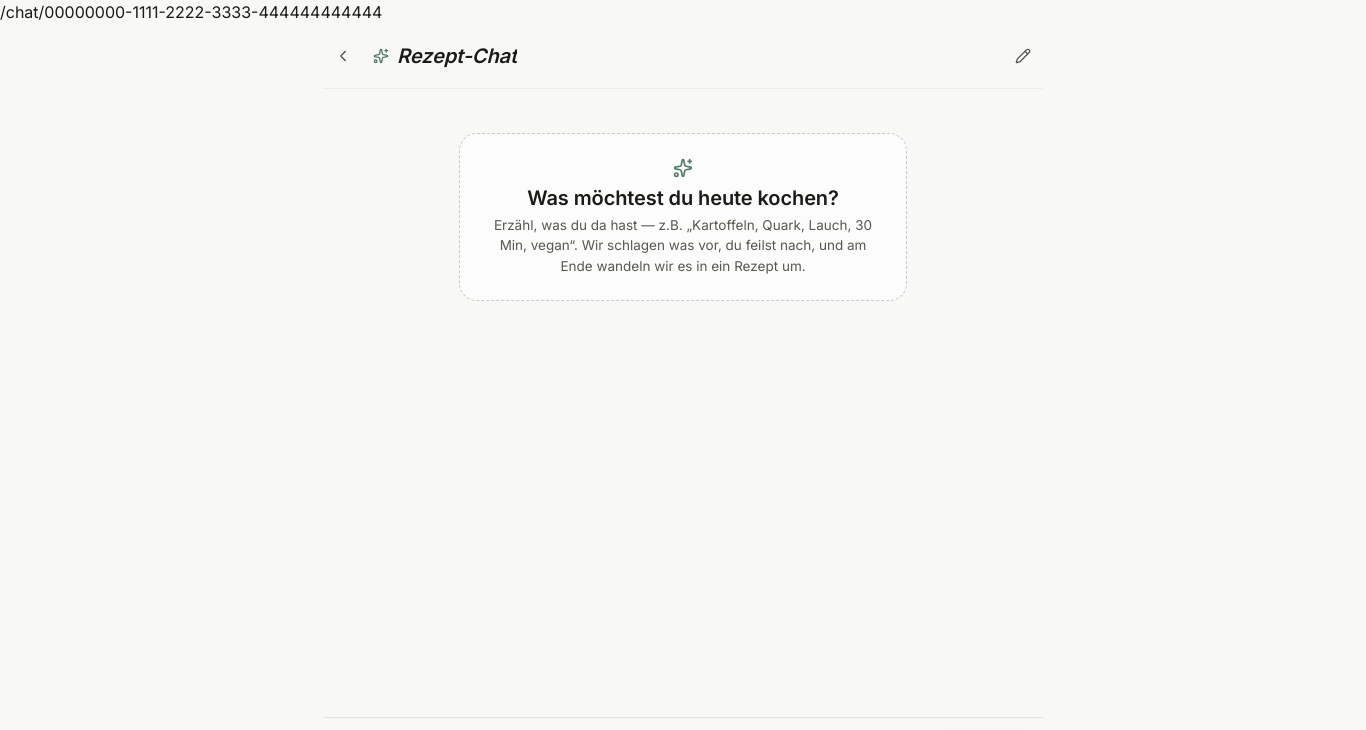
Test case: <ChatPage /> — rename top-bar affordance › REL-3d: renders the localised errors:invalid_title copy when the PATCH 400s
Click the button named "Unterhaltung umbenennen".
click(1023, 56)  # box [1003,36,1043,76]
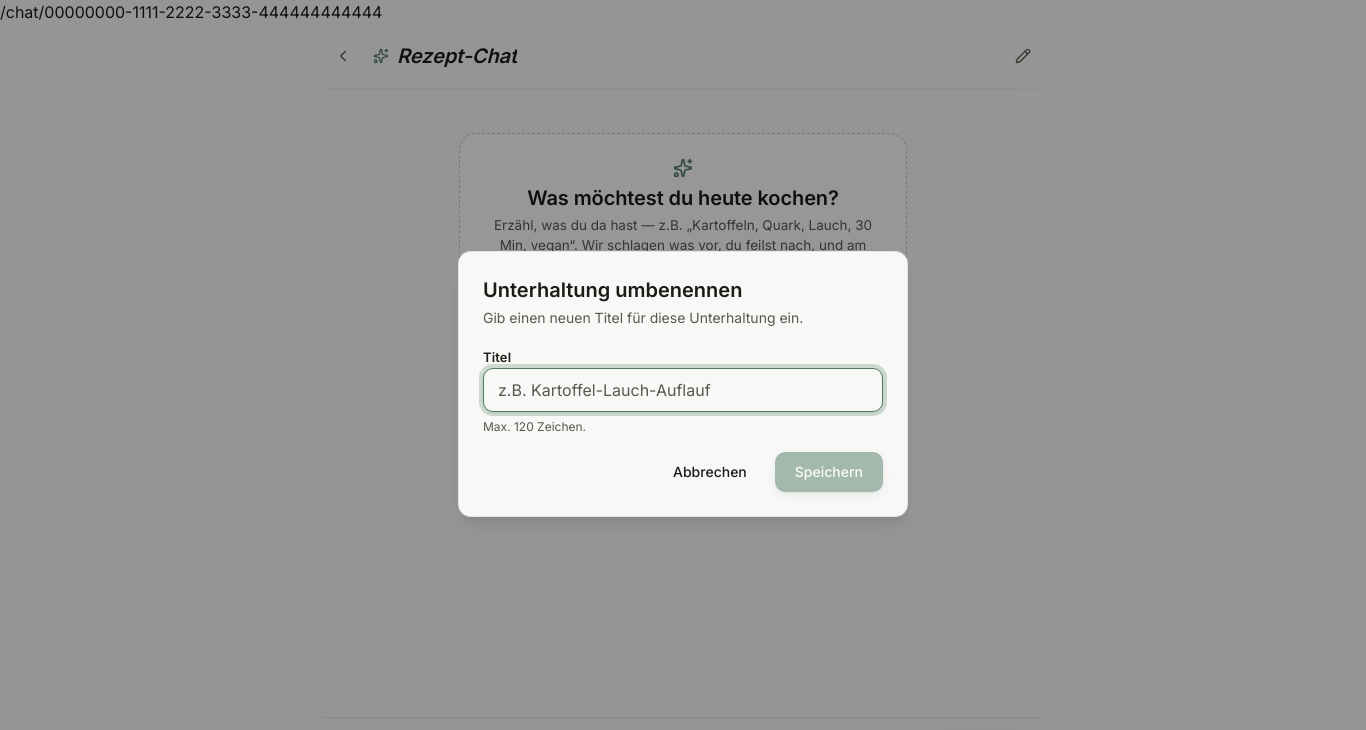
Type "Ein viel zu langer Titel" into the field labelled "Titel".
click(683, 390); type("Ein viel zu langer Titel")  # box [483,368,883,412]
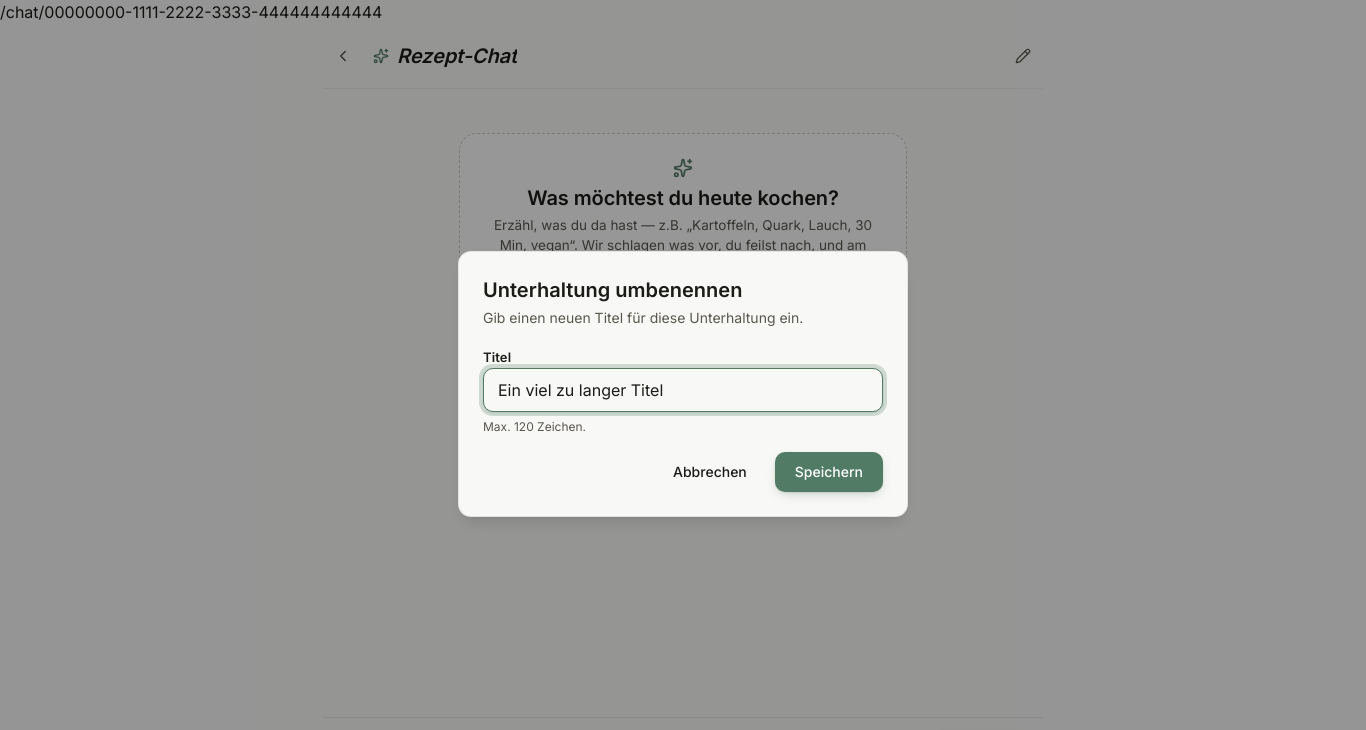
Click the button "Speichern".
click(829, 472)  # box [775,452,883,492]
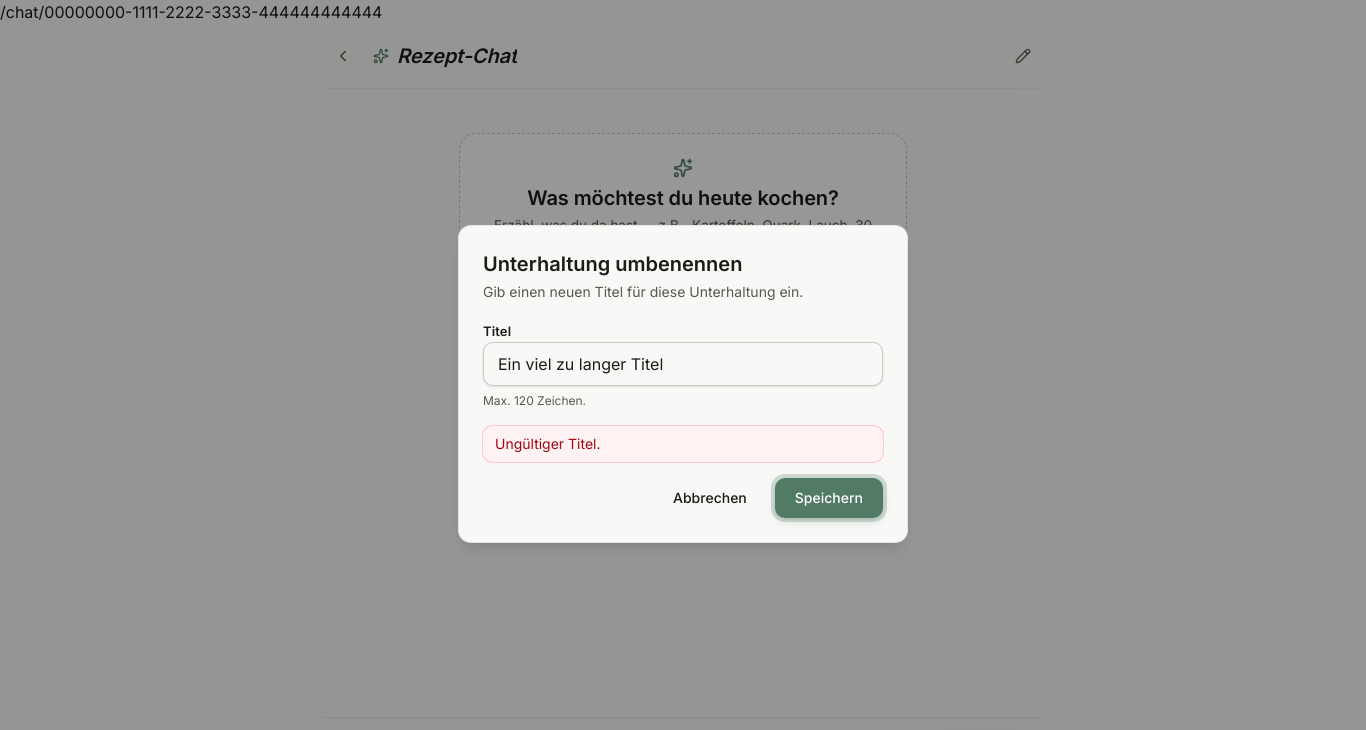
Expected: the message does not show "Invalid title.", [483,426,883,462]
Now the message reads "Ungültiger Titel.", box [495,435,600,452]
